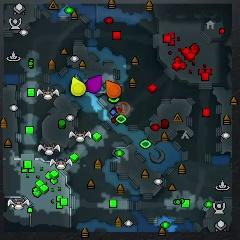p3: (86, 75, 102, 93)
p4: (70, 77, 86, 96)
p5: (105, 80, 122, 98)
